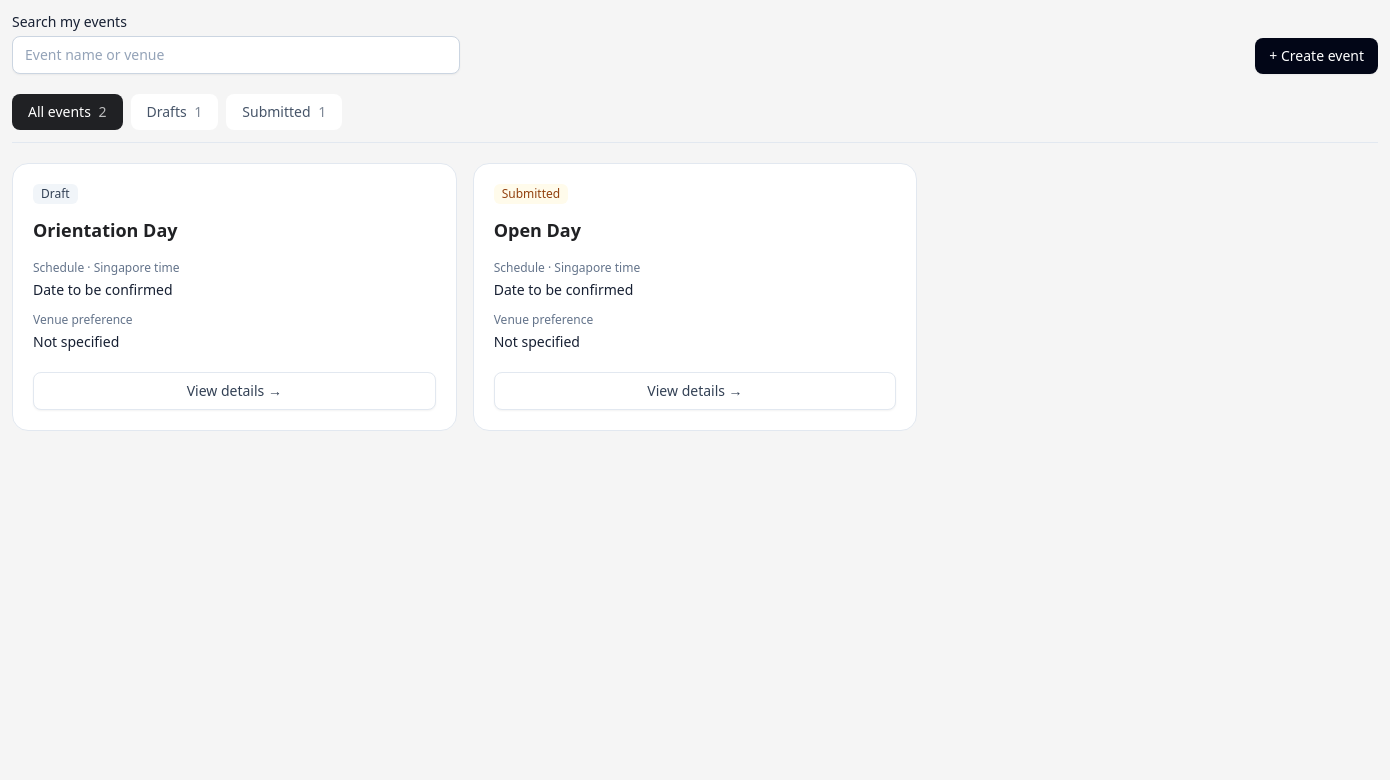
Test: SCRUM-88 owner views the event history (frontend unit) › every own row offers the toggle, and only the opened row is fetched
The image size is (1390, 780).
What coordinates should you click on to do the following:
click the button "View details →" below "Open Day"
I would click on:
 (695, 391)
Its box is [494,372,896,410].
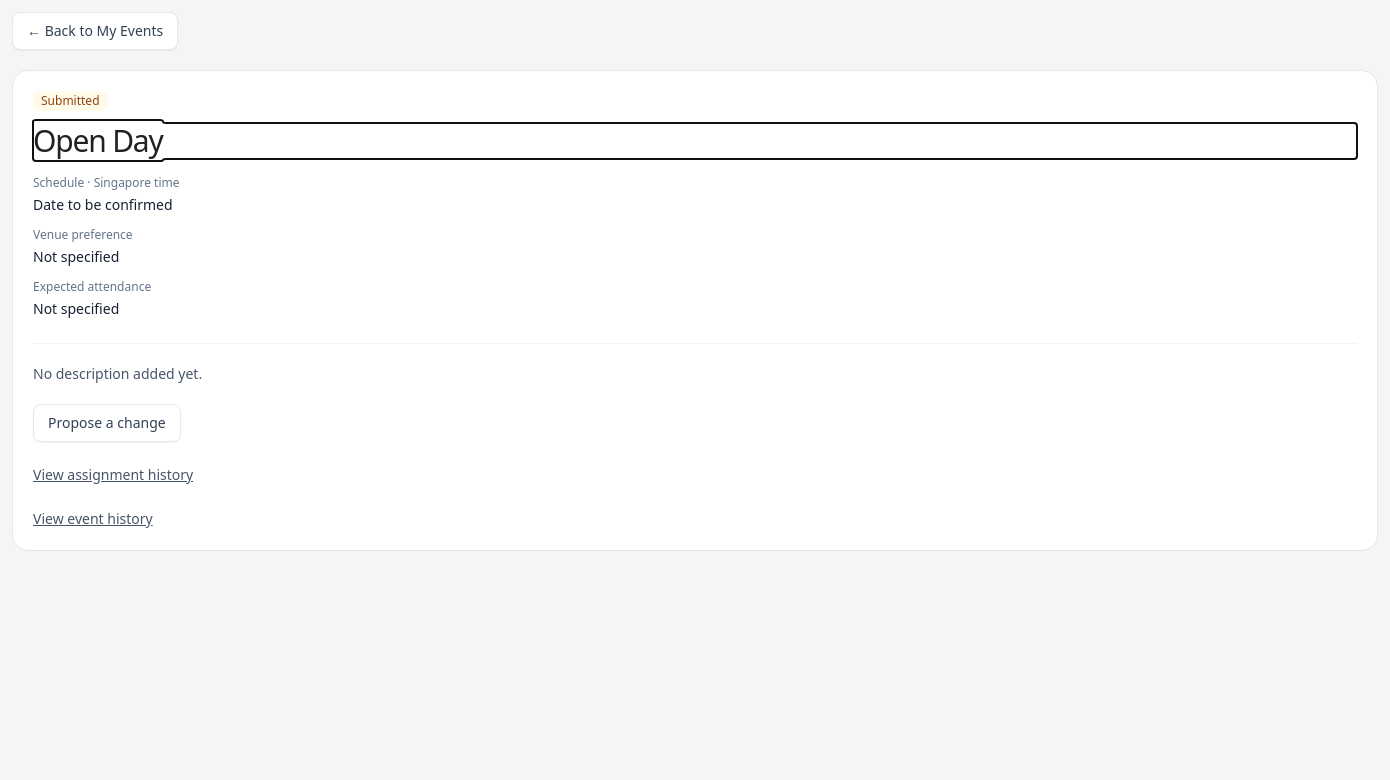
Expected: the button "View event history" is shown, [33,509,153,529]
What coordinates should you click on to do the following:
click the button "← Back to My Events"
I would click on:
 (95, 31)
Its box is [12,12,178,50].
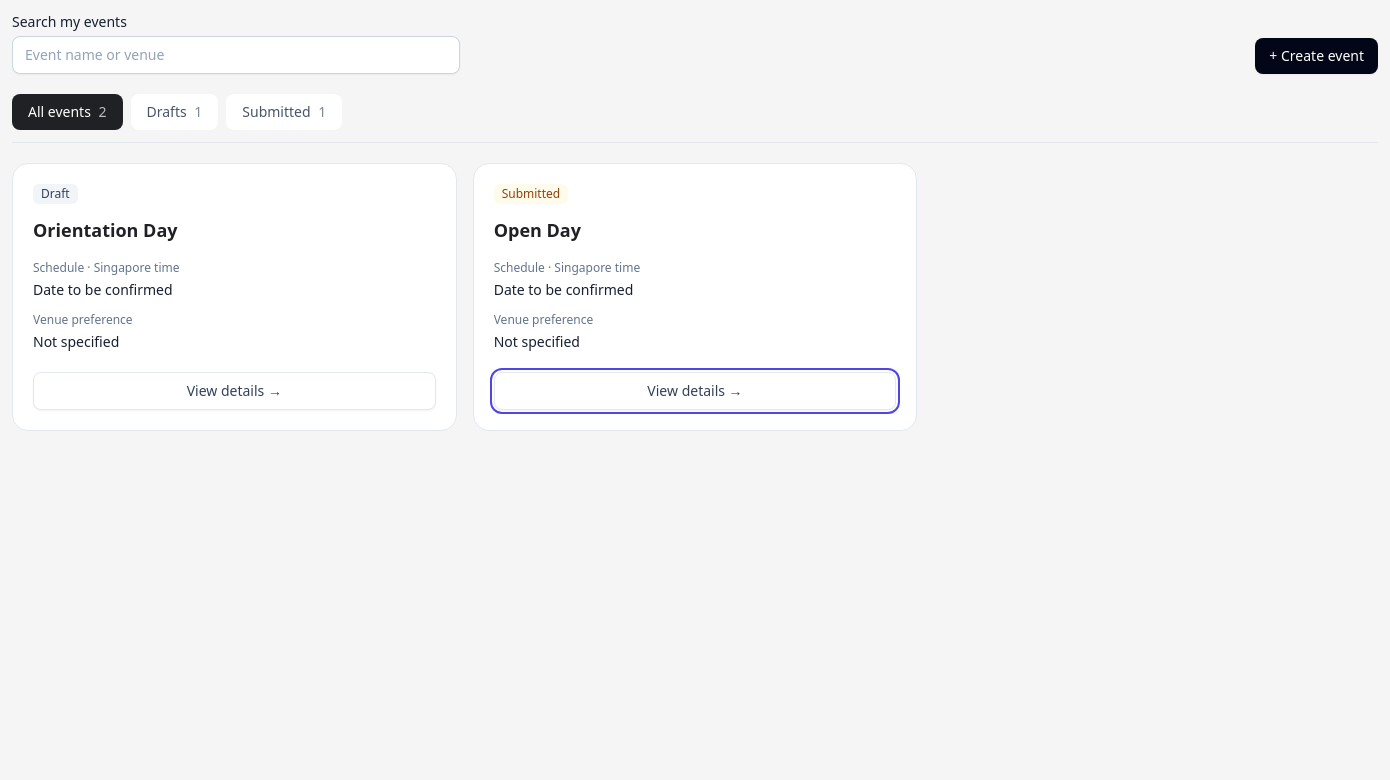
What coordinates should you click on to do the following:
click the button with aria-label "View details for Orientation Day"
I would click on:
 (234, 391)
Its box is [33,372,436,410].
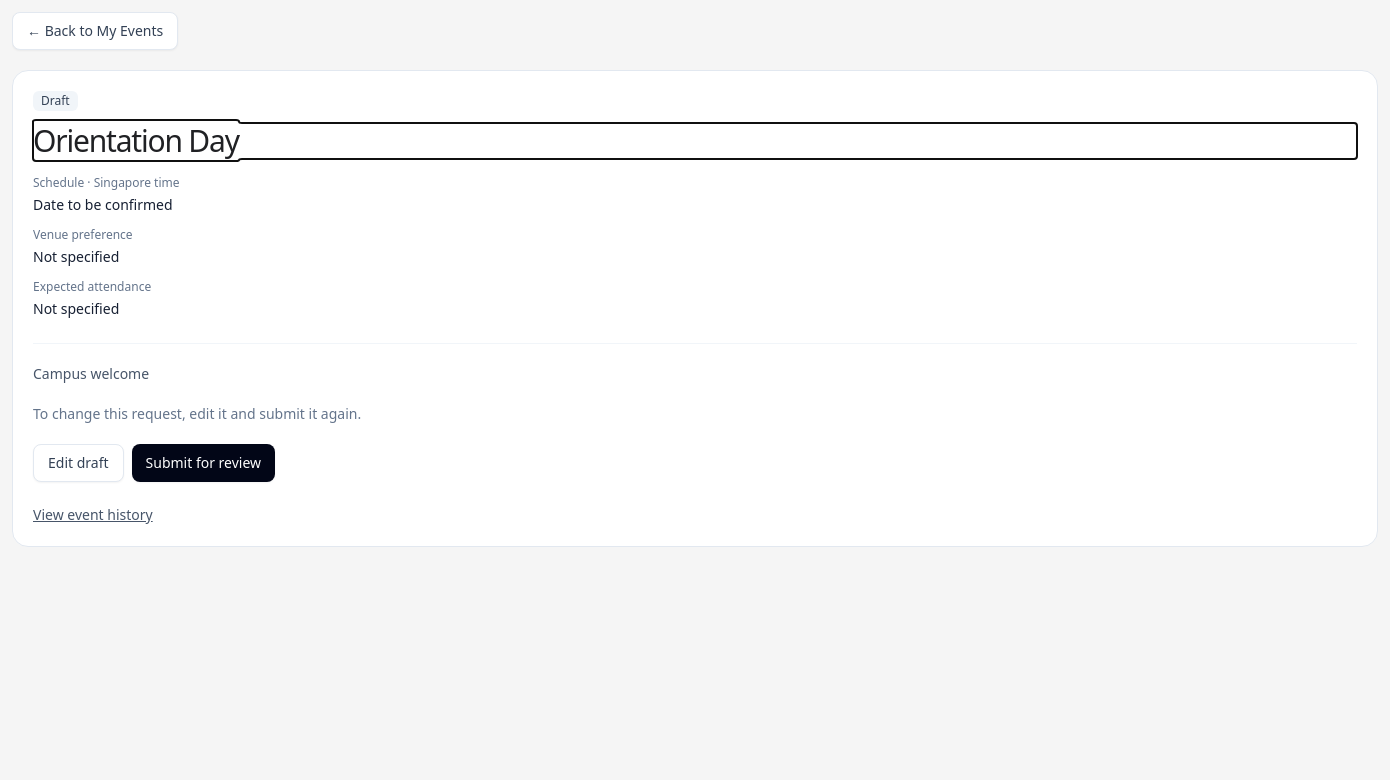
What coordinates should you click on to do the following:
click the button "View event history"
I would click on:
 (93, 515)
Its box is [33,505,153,525].
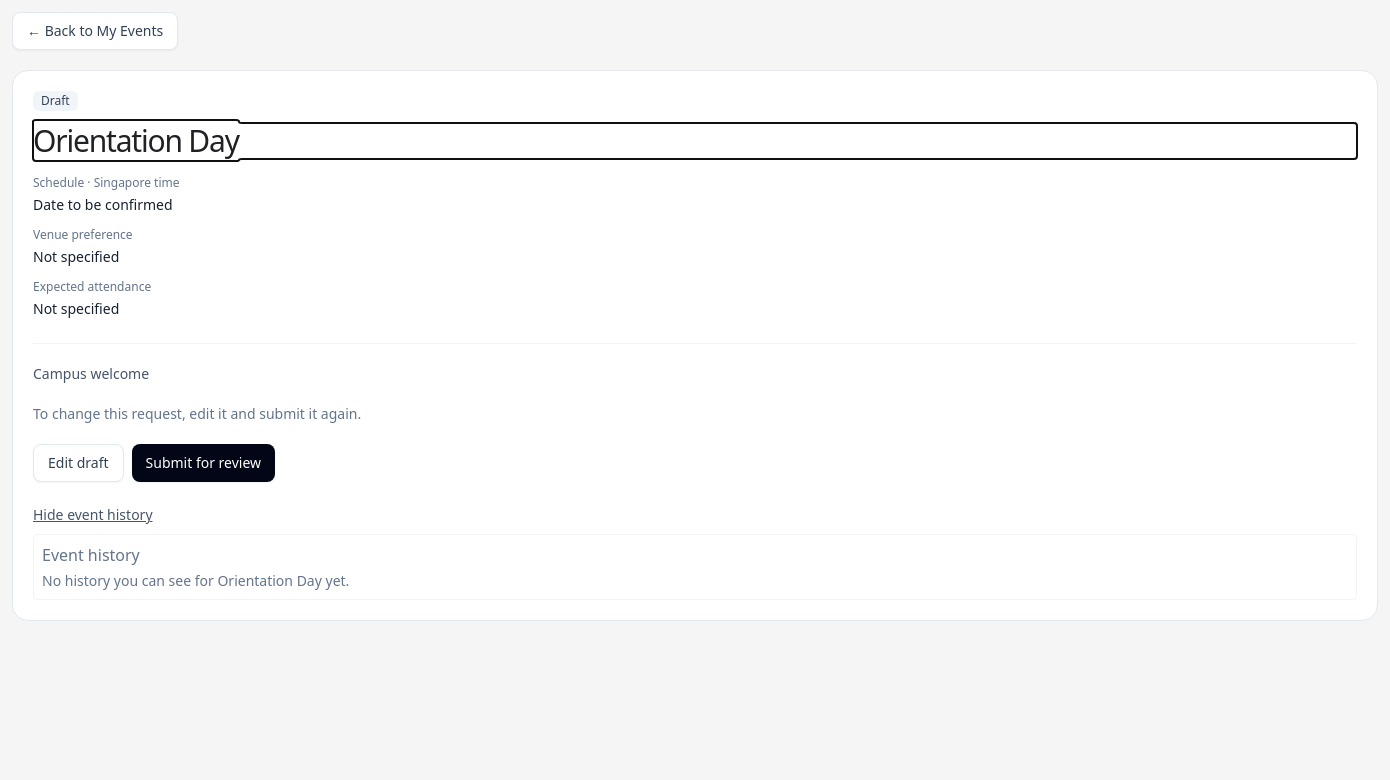
Expected: the text "No history you can see for Orientation Day yet." is shown, [42,571,349,590]
